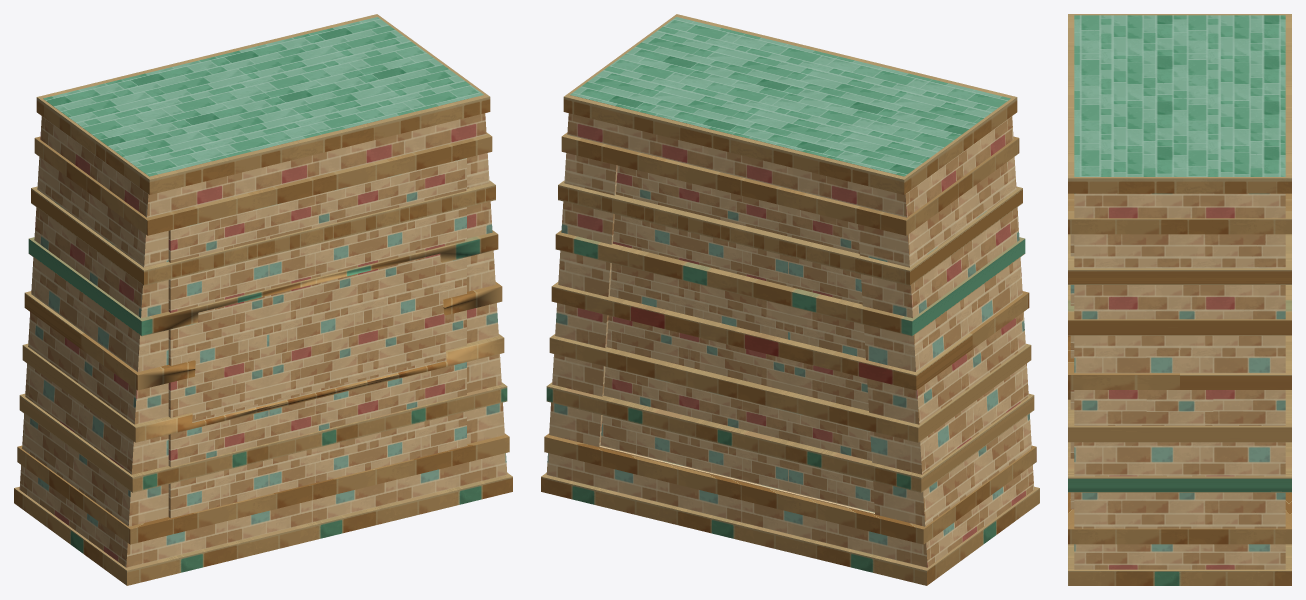
The model's file is AztecBlockadeRoom.fbx.
3 renders of one model, left to right at view 1: azimuth 30°, elevation 25°; view 2: azimuth 150°, elevation 25°; view 3: azimuth 270°, elevation 25°, orthographic.
Parts seen in each view (by area): view 1: Cube.022; view 2: Cube.022; view 3: Cube.022.
Part boxes in pixels (<box>): Cube.022: <box>14,14,512,585</box>; Cube.022: <box>541,14,1039,585</box>; Cube.022: <box>1068,14,1291,585</box>.
Size of the model in its own units: 5316 by 5278 by 2698.
3 materials, 3 textured.
